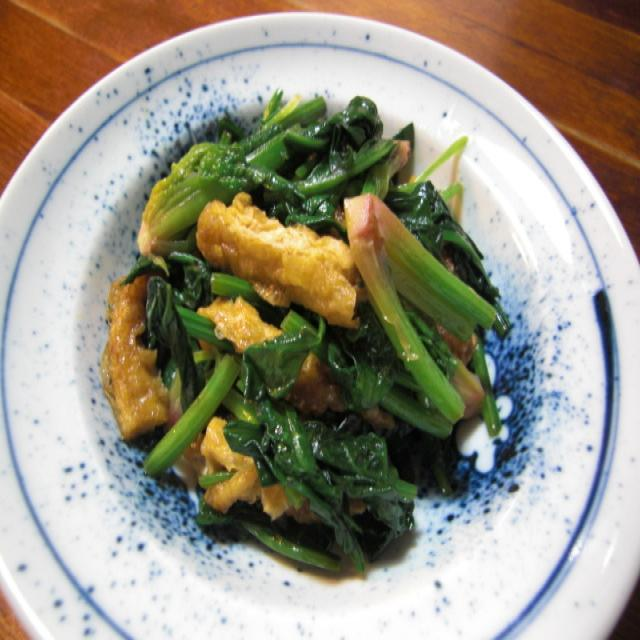蔬菜料理: (86, 69, 520, 592)
